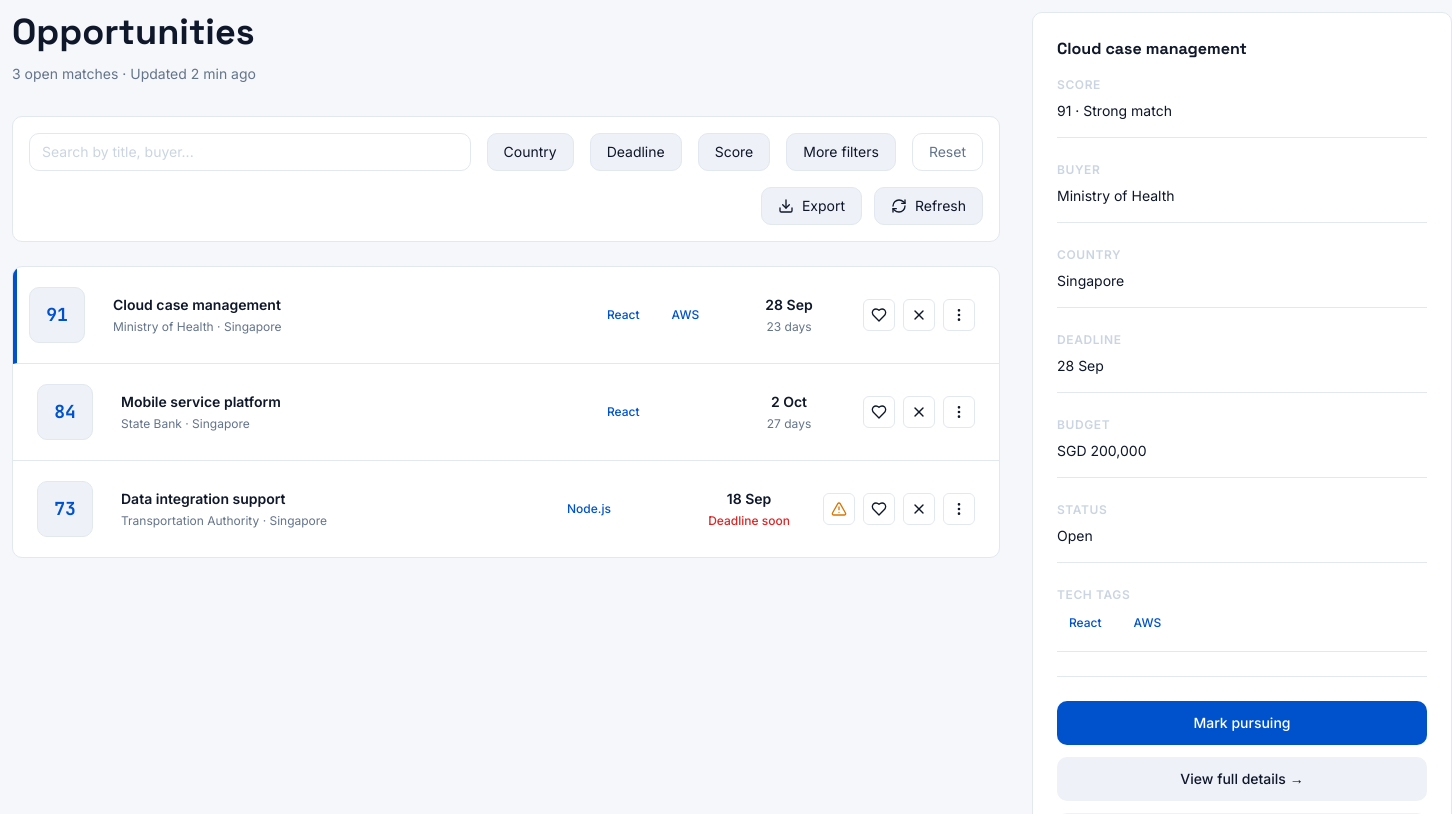
Test: InboxList › filters tenders by search text in title
In the field with placeholder "Search by title, buyer...": {"x": 250, "y": 152} [29,133,470,171], type "Cloud"
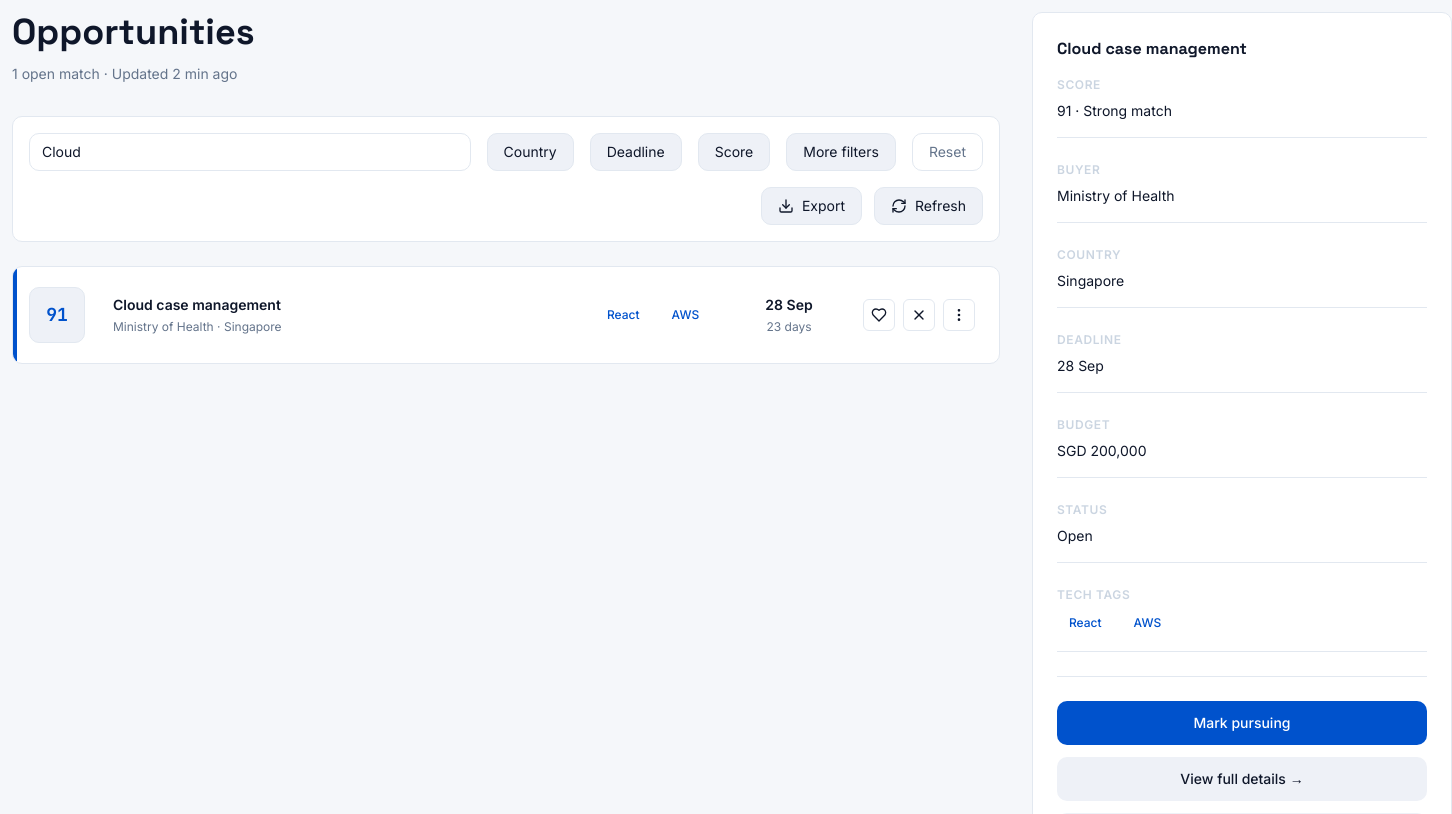
Check: the heading "Cloud case management" is shown, box [113,296,281,313]
Check: the heading "Mobile service platform" is gone
